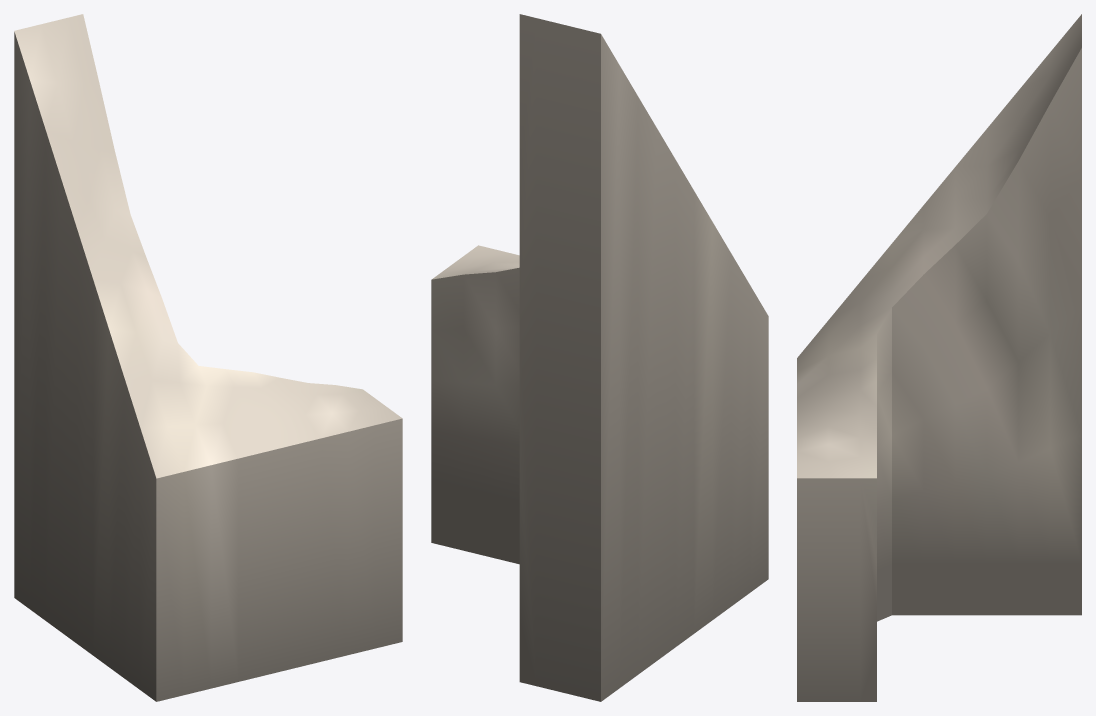
File: SM_VKI_Rock_Cave_CCOF_WallN.fbx
3 renders of one model, left to right at view 1: azimuth 30°, elevation 25°; view 2: azimuth 150°, elevation 25°; view 3: azimuth 270°, elevation 25°, orthographic. The views are drawn at different scales.
Parts seen in each view (by area): view 1: SM_VKI_Rock_Cave_CCOF_WallN.001; view 2: SM_VKI_Rock_Cave_CCOF_WallN.001; view 3: SM_VKI_Rock_Cave_CCOF_WallN.001.
Boxes of the visible parts, <box> form: SM_VKI_Rock_Cave_CCOF_WallN.001: <box>14,14,402,701</box>; SM_VKI_Rock_Cave_CCOF_WallN.001: <box>431,14,768,701</box>; SM_VKI_Rock_Cave_CCOF_WallN.001: <box>797,14,1081,701</box>.
Bounding box in the file's own units: 1.5 × 3.3 × 1.5.
